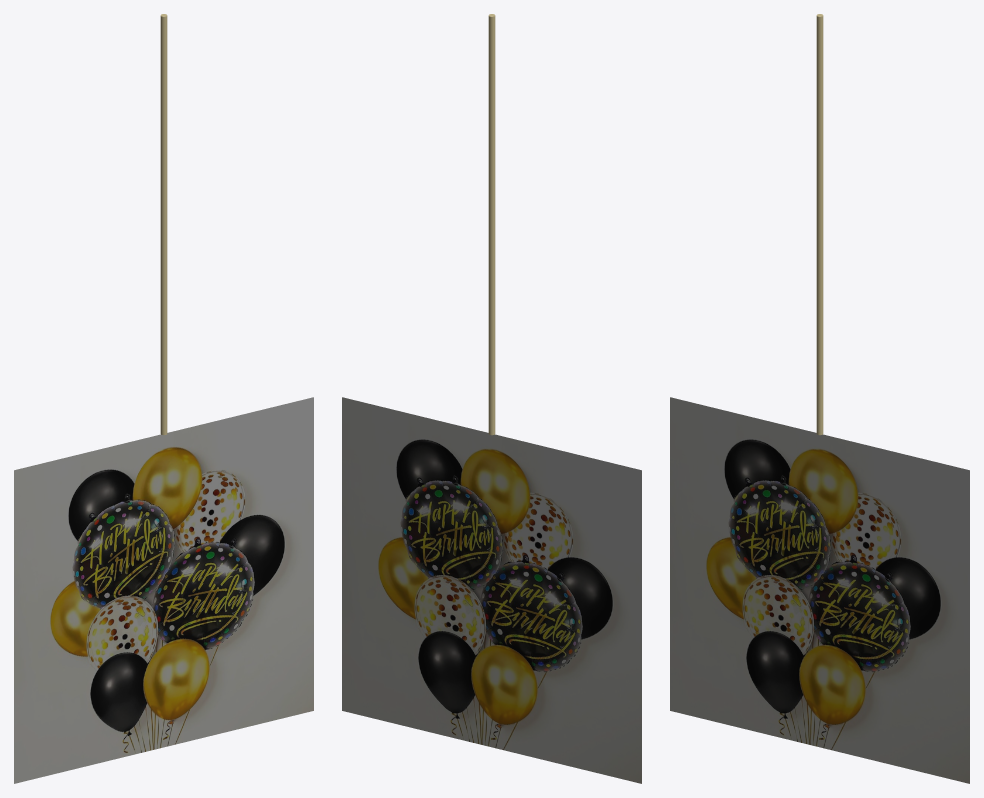
The model's file is B0FDPVZ972.glb.
3 renders of one model, left to right at view 1: azimuth 30°, elevation 25°; view 2: azimuth 150°, elevation 25°; view 3: azimuth 330°, elevation 25°, orthographic.
Parts seen in each view (by area): view 1: photo, string; view 2: photo, string; view 3: photo, string.
Part boxes in pixels (x1,y1,x2,y2): photo: [14, 397, 313, 783]; string: [160, 14, 167, 435]; photo: [342, 397, 641, 783]; string: [488, 14, 495, 435]; photo: [670, 397, 969, 783]; string: [816, 14, 823, 435].
Bounding box in the file's own units: 0.3 × 0.7 × 0.006.
Materials: 1 (1 with a texture image).
